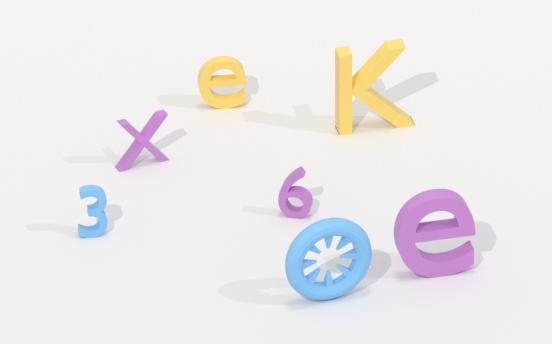3: (75, 182, 113, 242)
6: (273, 163, 317, 220)
e: (391, 187, 483, 279), (194, 56, 252, 109)
k: (329, 36, 420, 142)
tron: (285, 218, 375, 303)
x: (110, 109, 173, 175)
